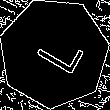L_NW: (25, 27, 83, 79)
